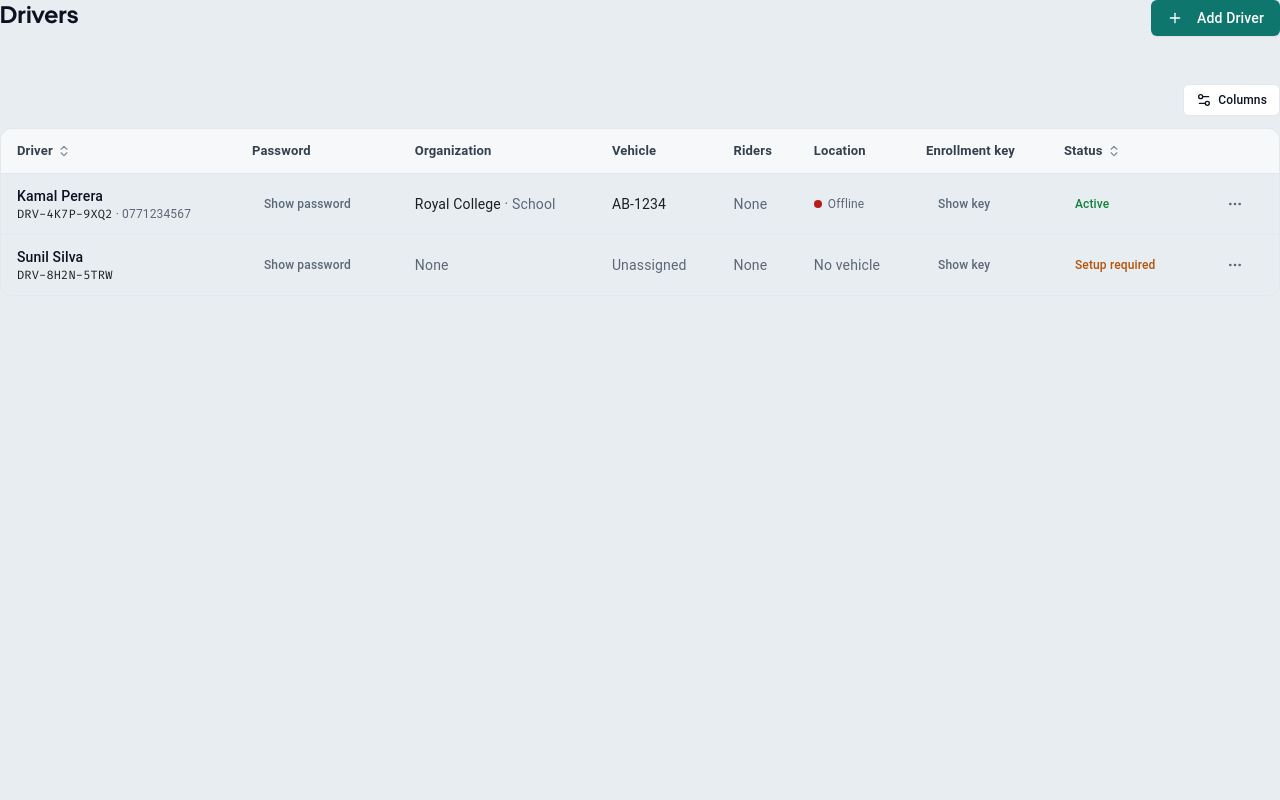
Test case: ManagerAccountsPage: enrollment key rotation › warns before rotating instead of rotating on the click itself
Click the button named "Actions for Kamal Perera" at (1235, 204), box x1=1217 y1=186 x2=1253 y2=222
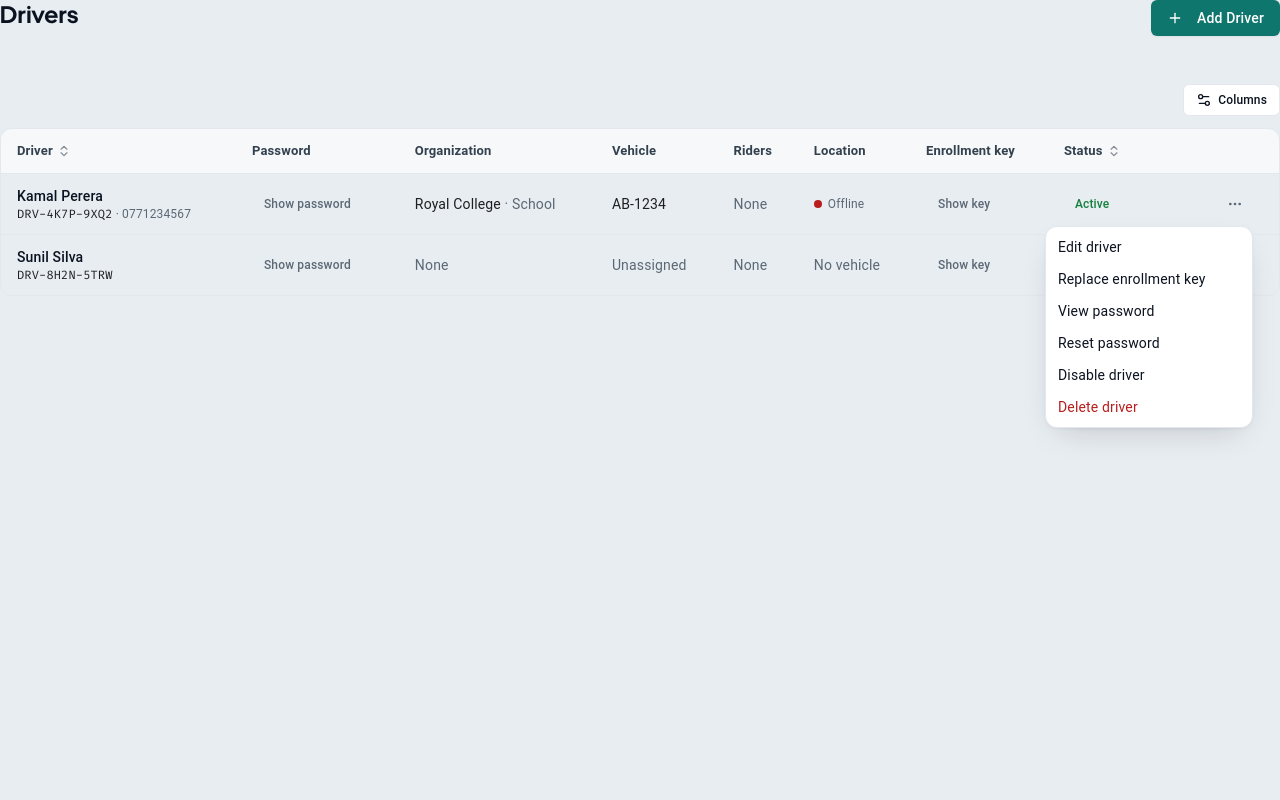
Click the menu item "Replace enrollment key" at (1132, 279), box x1=1058 y1=271 x2=1205 y2=287
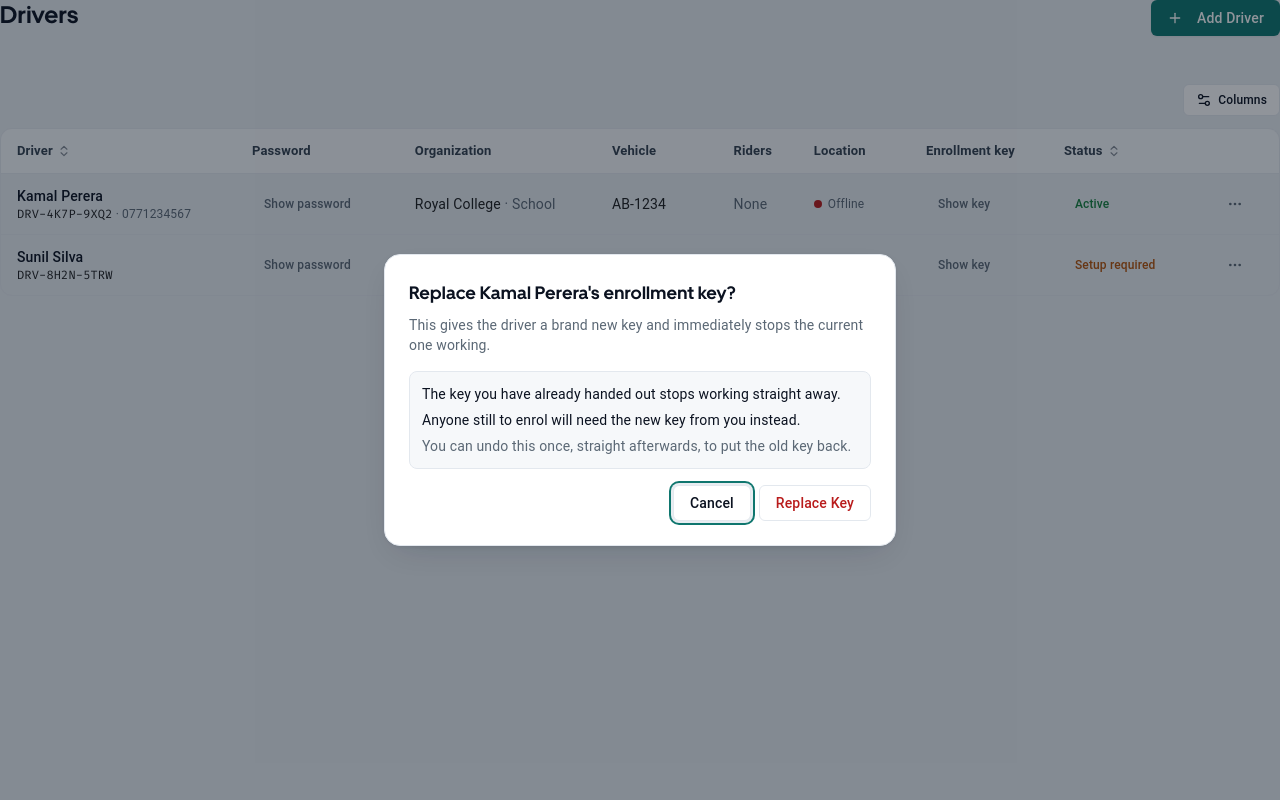
Result: the dialog is shown at x1=384 y1=254 x2=896 y2=546
